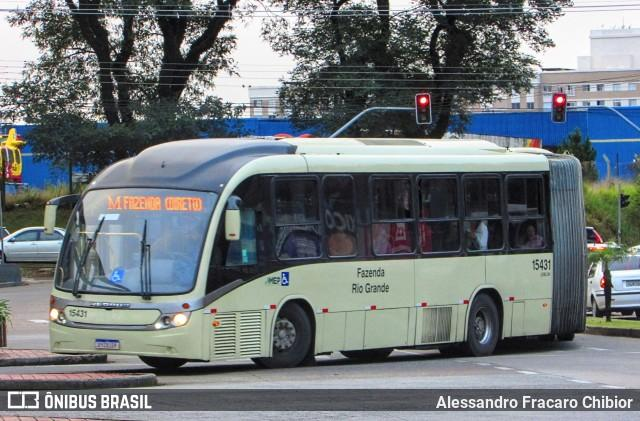FAZENDA: (122, 192, 163, 212)
